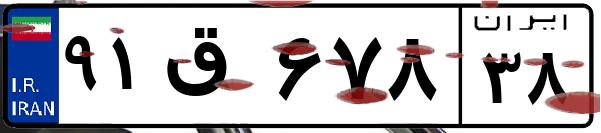1: (110, 28, 158, 98)
3: (475, 38, 525, 113)
6: (270, 28, 330, 110)
7: (330, 28, 385, 110)
8: (385, 28, 445, 110), (525, 38, 570, 115)
9: (57, 26, 110, 100)
ق: (158, 20, 270, 120)
